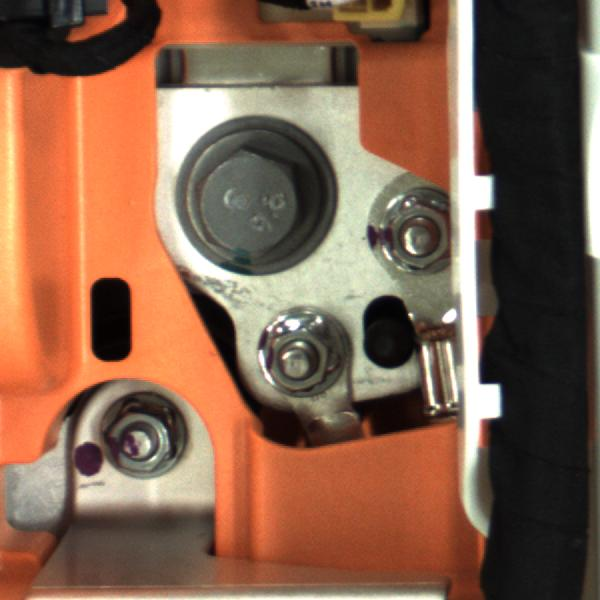nut_b: (169, 126, 341, 269)
screw_s: (239, 303, 353, 405), (81, 388, 193, 480), (370, 183, 462, 276)
